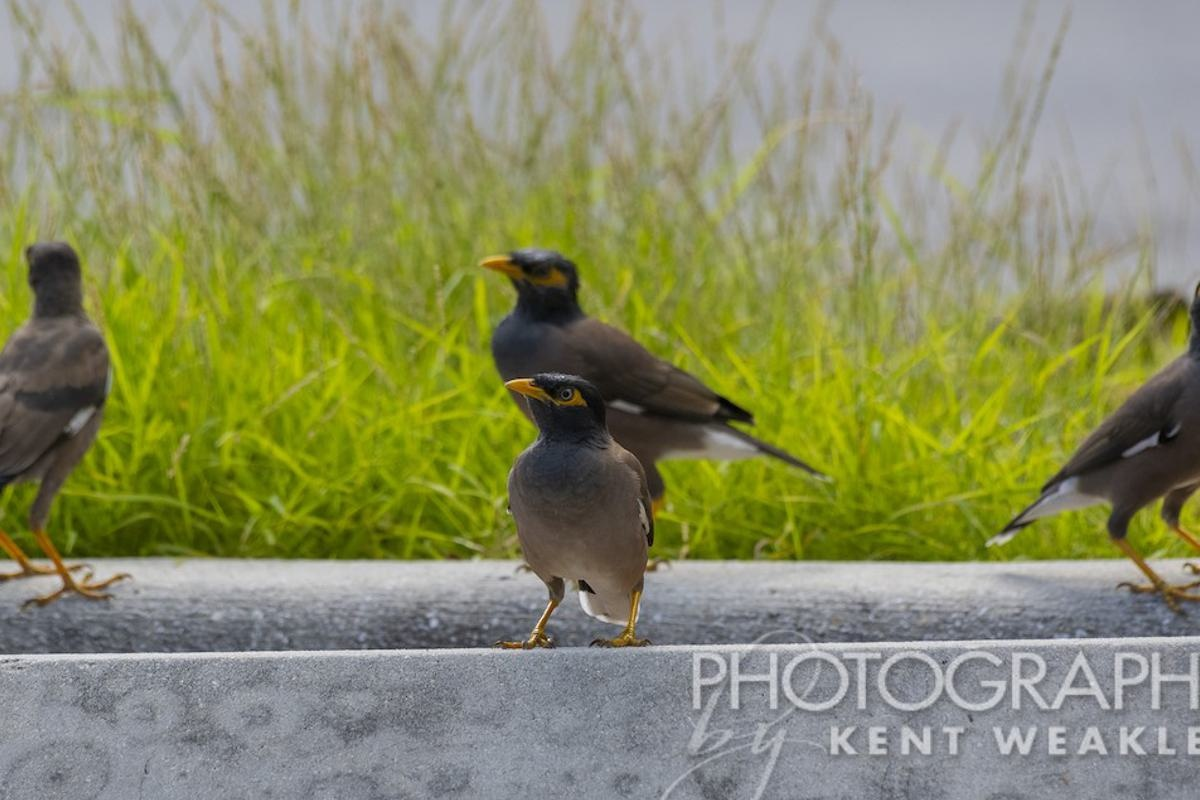myna: (464, 221, 781, 456), (489, 356, 678, 655)
